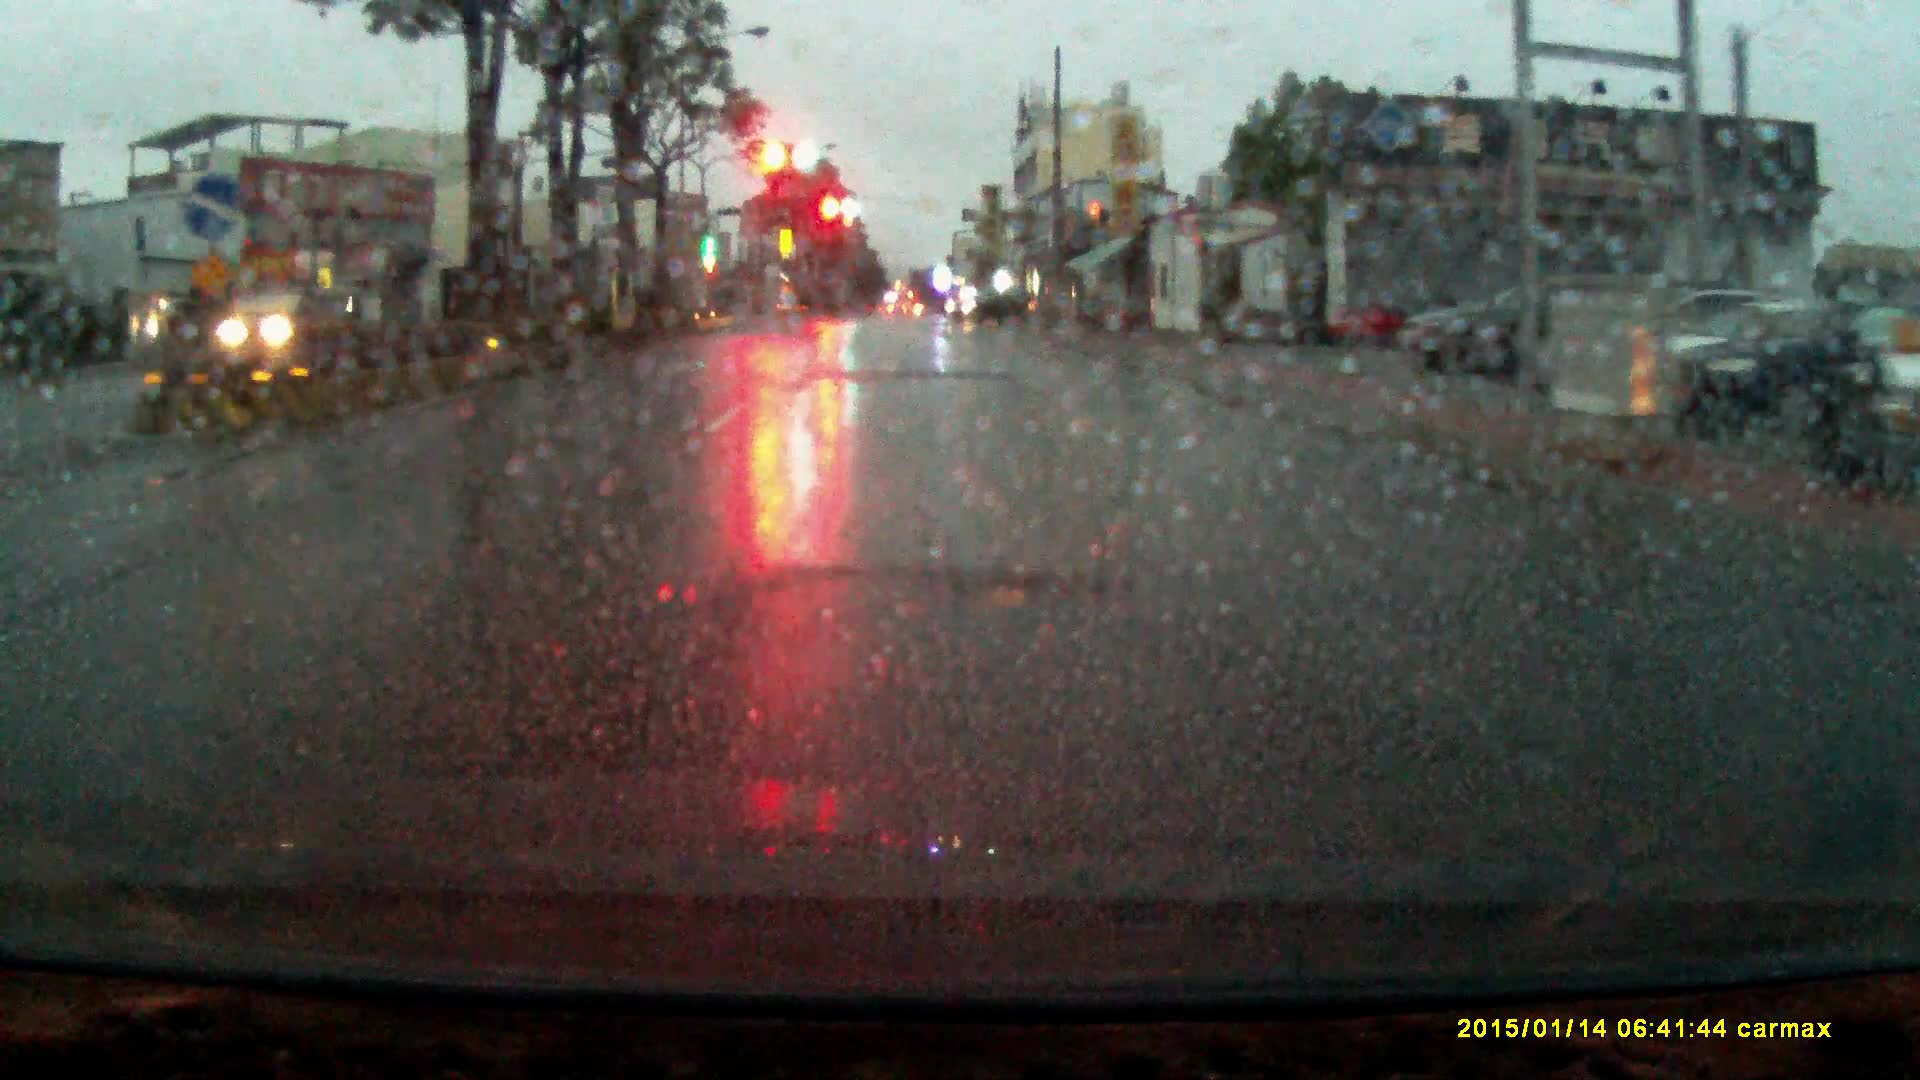vehicle: (1675, 297, 1888, 435), (1404, 289, 1625, 390), (1677, 299, 1833, 381), (220, 295, 334, 365), (947, 287, 1030, 330)
